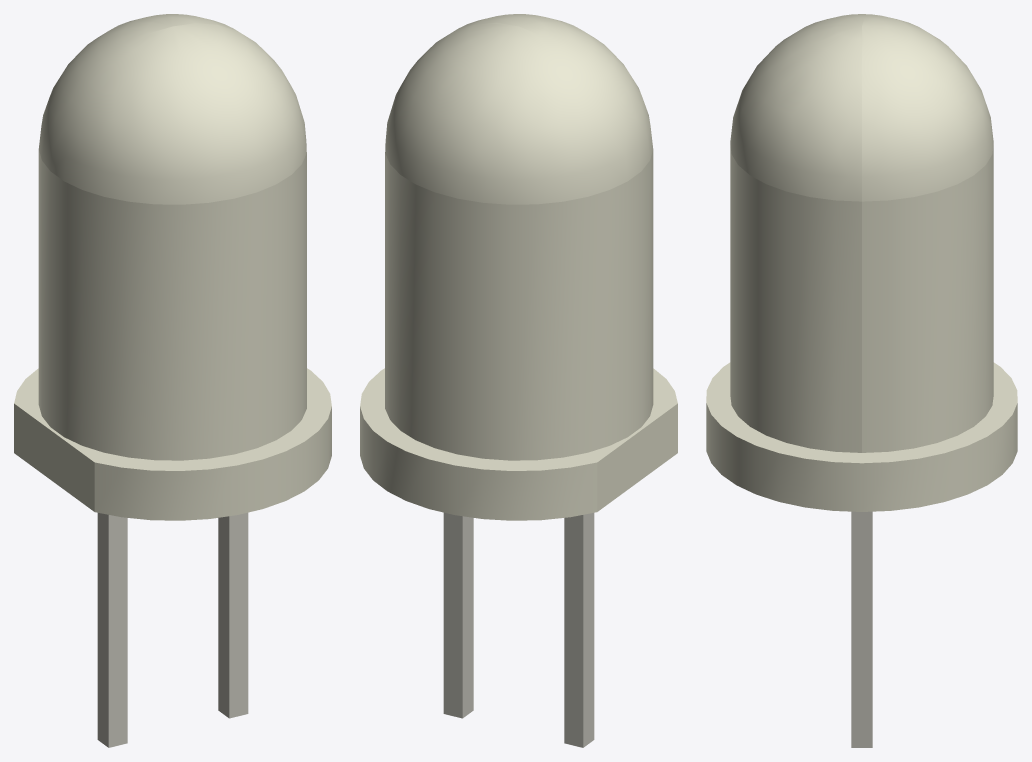
File: kc-led_d5.0mm_clear.glb
The picture shows the model from 3 angles, left to right: view 1: azimuth 30°, elevation 25°; view 2: azimuth 150°, elevation 25°; view 3: azimuth 270°, elevation 25°; orthographic projection.
Parts seen in each view (by area): view 1: 0.75_0.75_0.6666666666666666_0, 0.6666666666666666_0.6666666666666666_0.5833333333333334_0.8; view 2: 0.75_0.75_0.6666666666666666_0, 0.6666666666666666_0.6666666666666666_0.5833333333333334_0.8; view 3: 0.75_0.75_0.6666666666666666_0, 0.6666666666666666_0.6666666666666666_0.5833333333333334_0.8.
Boxes of the visible parts, <box> form: 0.75_0.75_0.6666666666666666_0: <box>14,14,331,520</box>; 0.6666666666666666_0.6666666666666666_0.5833333333333334_0.8: <box>97,512,248,747</box>; 0.75_0.75_0.6666666666666666_0: <box>360,14,677,520</box>; 0.6666666666666666_0.6666666666666666_0.5833333333333334_0.8: <box>443,512,594,747</box>; 0.75_0.75_0.6666666666666666_0: <box>706,14,1017,511</box>; 0.6666666666666666_0.6666666666666666_0.5833333333333334_0.8: <box>851,511,872,747</box>.
Size of the model in its own units: 0.54 by 1.41 by 0.5782.
